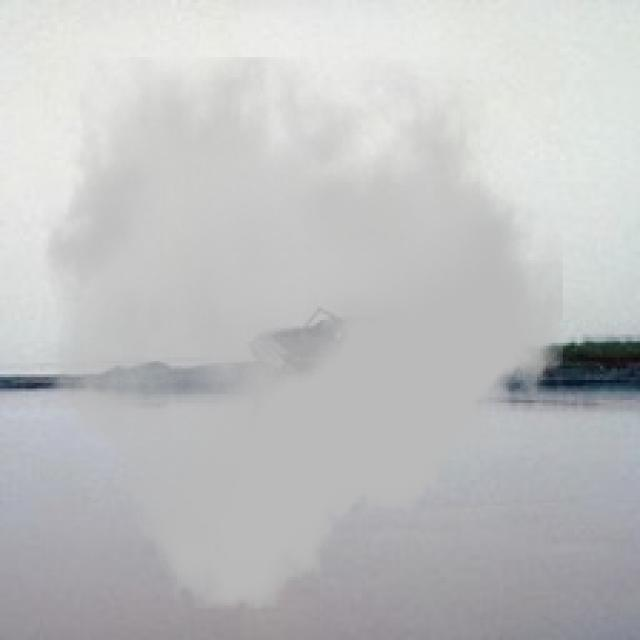smoke: (43, 57, 563, 609)
